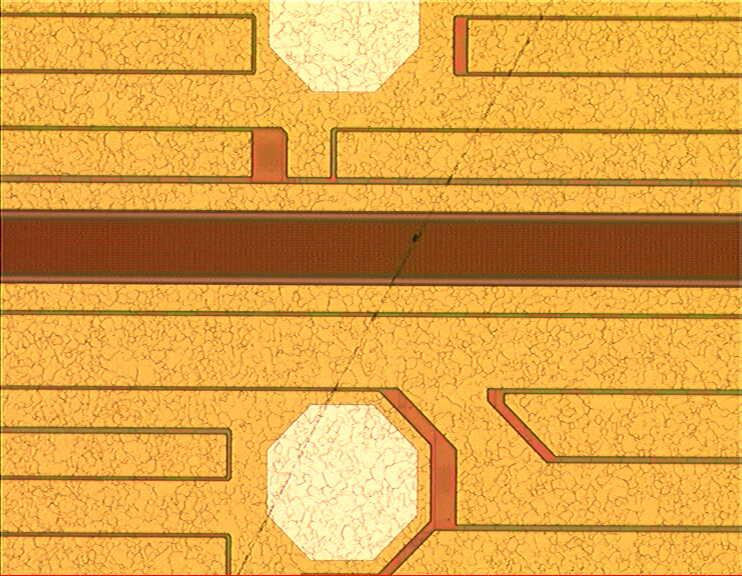SCRATCH: (231, 1, 564, 576)
